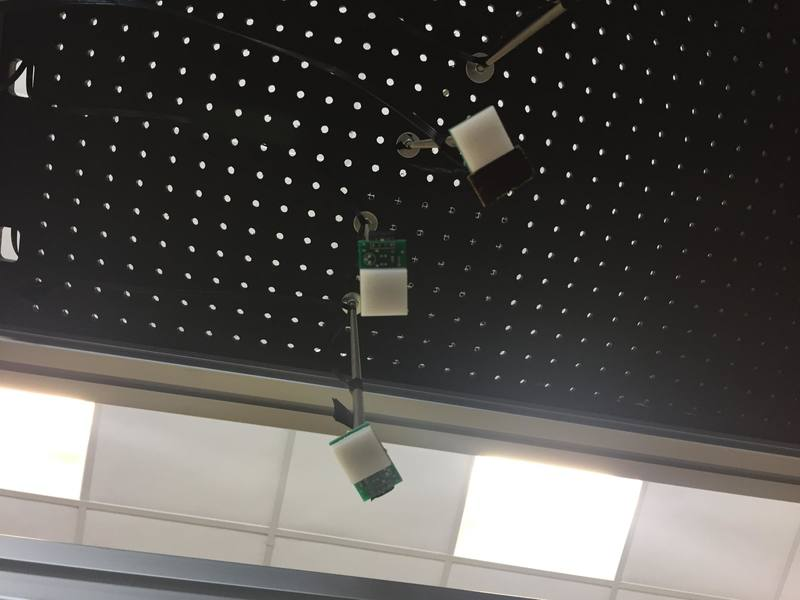target: (447, 108, 512, 172), (330, 428, 391, 481), (356, 268, 410, 321)
